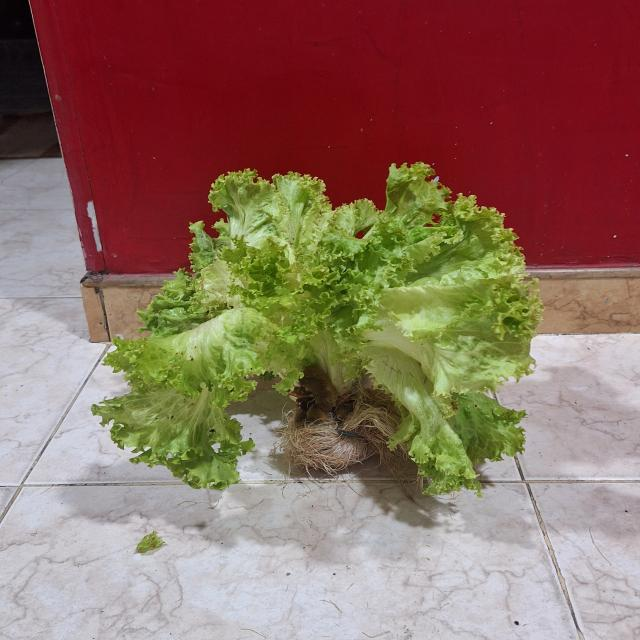lista_para_cosechar: (92, 162, 543, 496)
